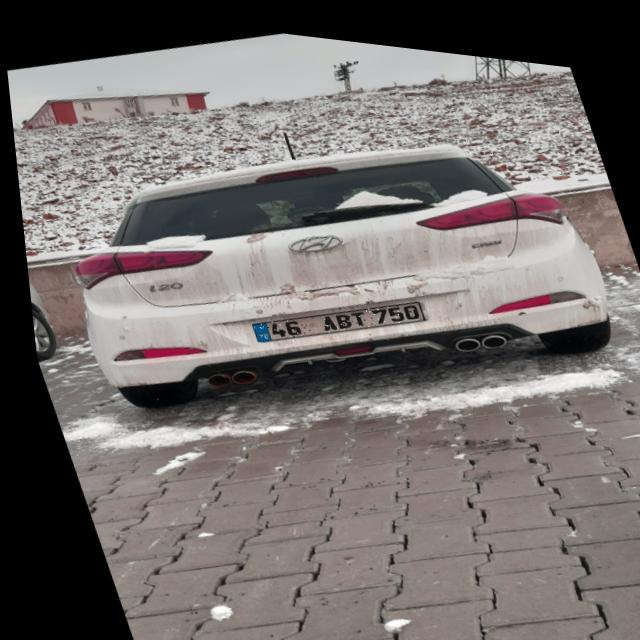license_plate: (242, 274, 426, 352)
